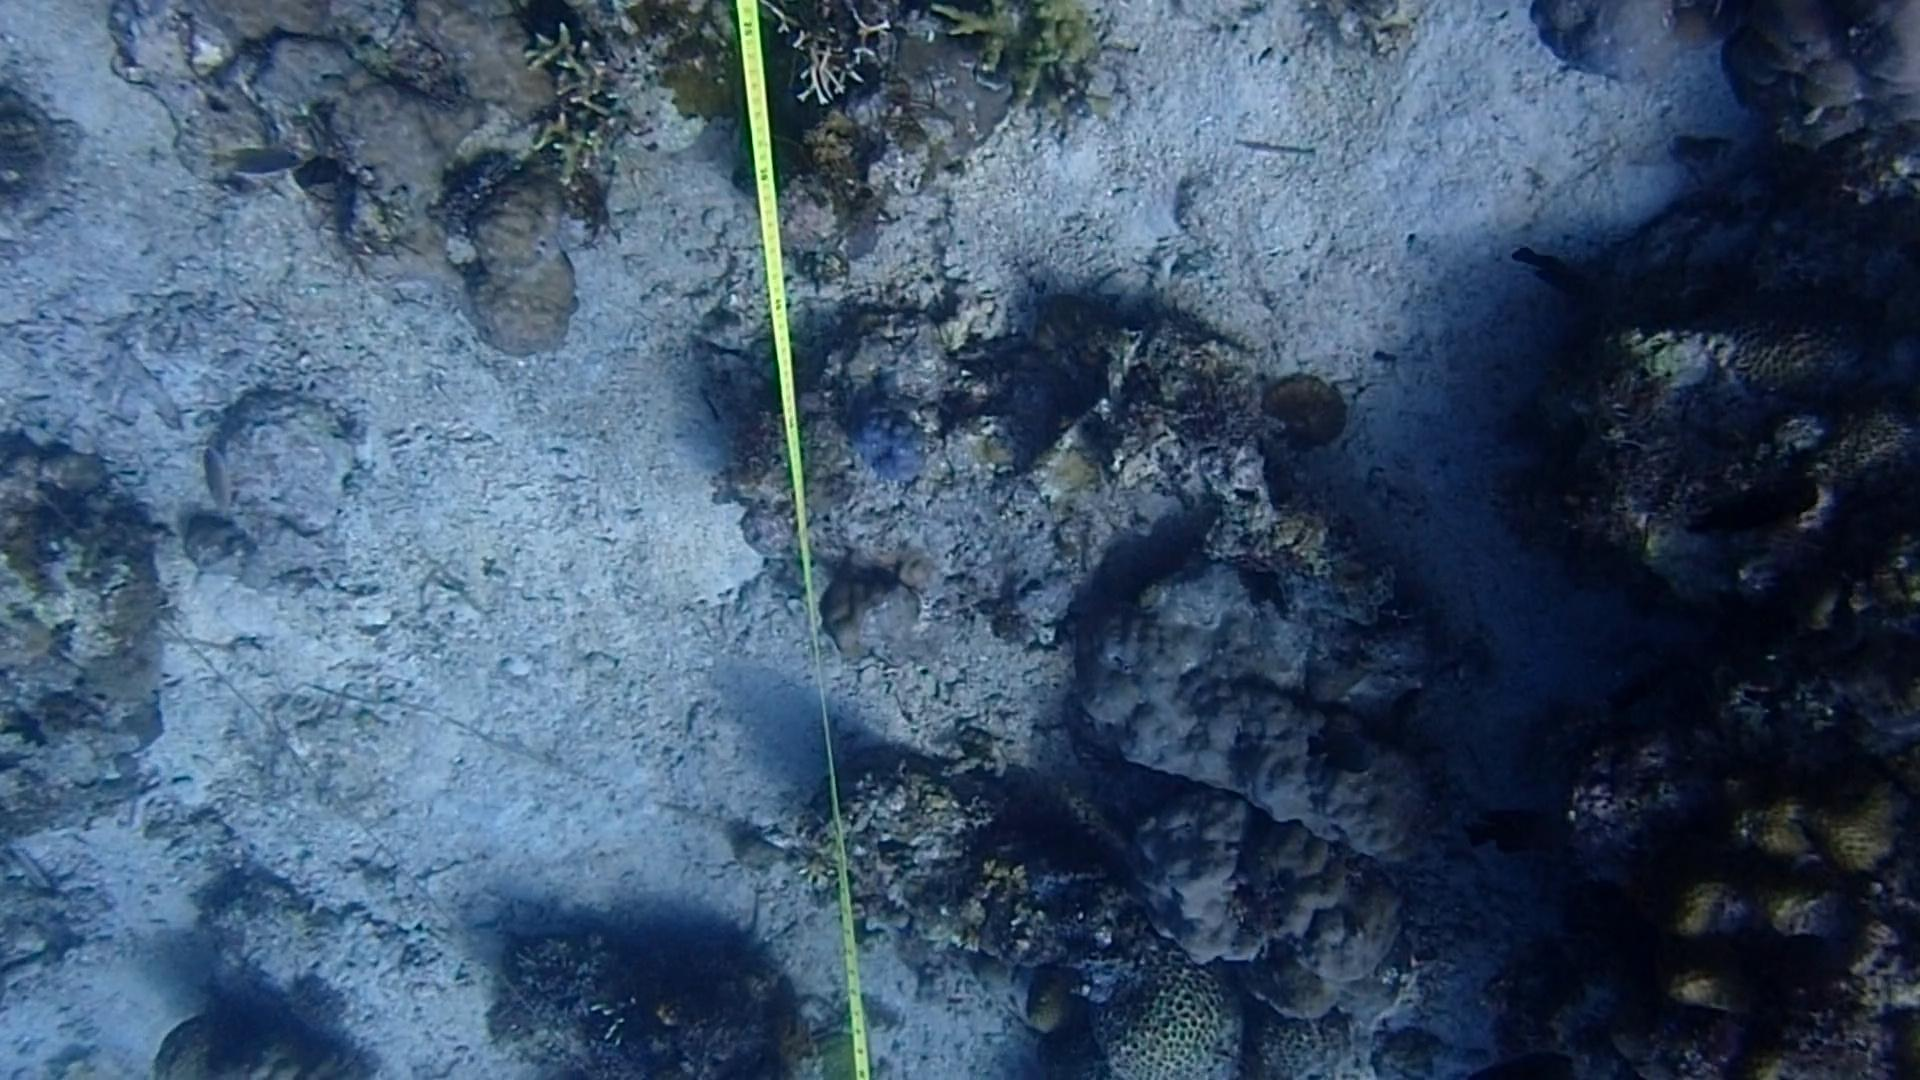Dark Fish: (1716, 914, 1847, 1002), (1668, 475, 1825, 542), (1464, 791, 1589, 874), (1502, 215, 1600, 316), (1305, 705, 1390, 787)
Light Fish: (183, 442, 244, 525)
